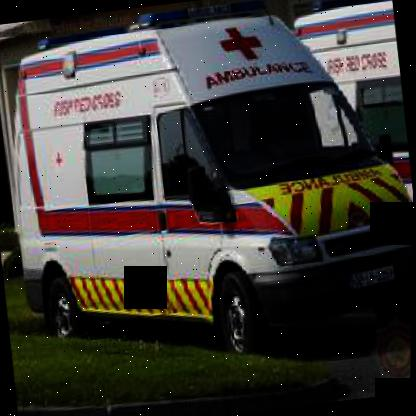emergency: (0, 0, 415, 394), (280, 0, 415, 248)
